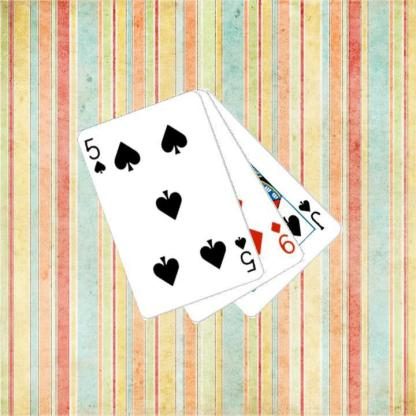5S: (82, 135, 108, 176), (232, 234, 258, 274)
9D: (268, 219, 297, 256)
JS: (295, 196, 326, 232)
